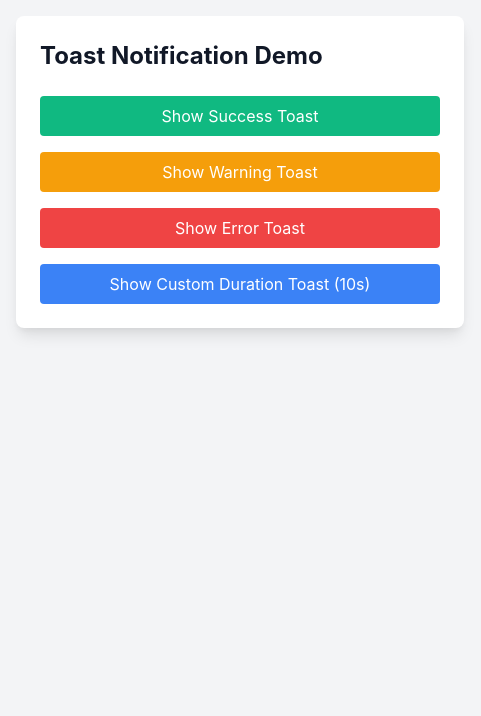
Test: ToastDemo › shows success toast when success button is clicked
Click the button "Show Success Toast" at point(240, 116), box x1=40 y1=96 x2=440 y2=136
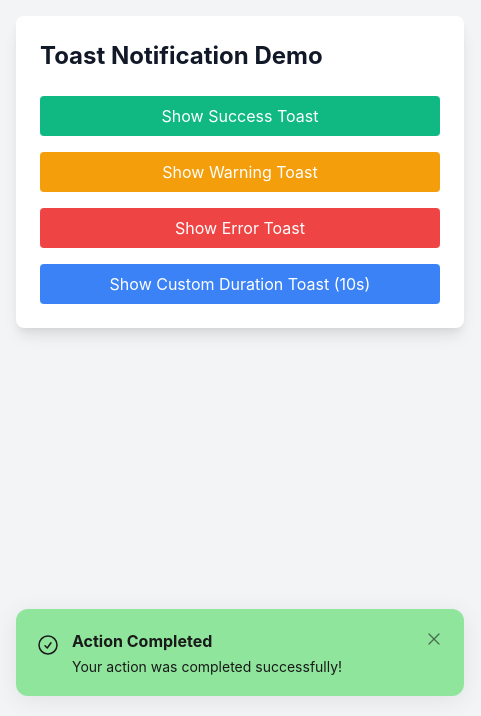
Now the text "Your action was completed successfully!" is shown, box x1=72 y1=658 x2=342 y2=675
